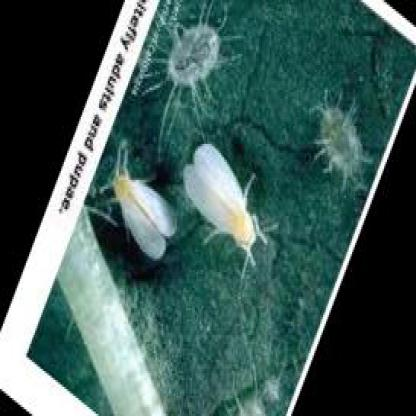whitefly: (181, 142, 253, 250), (111, 173, 179, 264)
